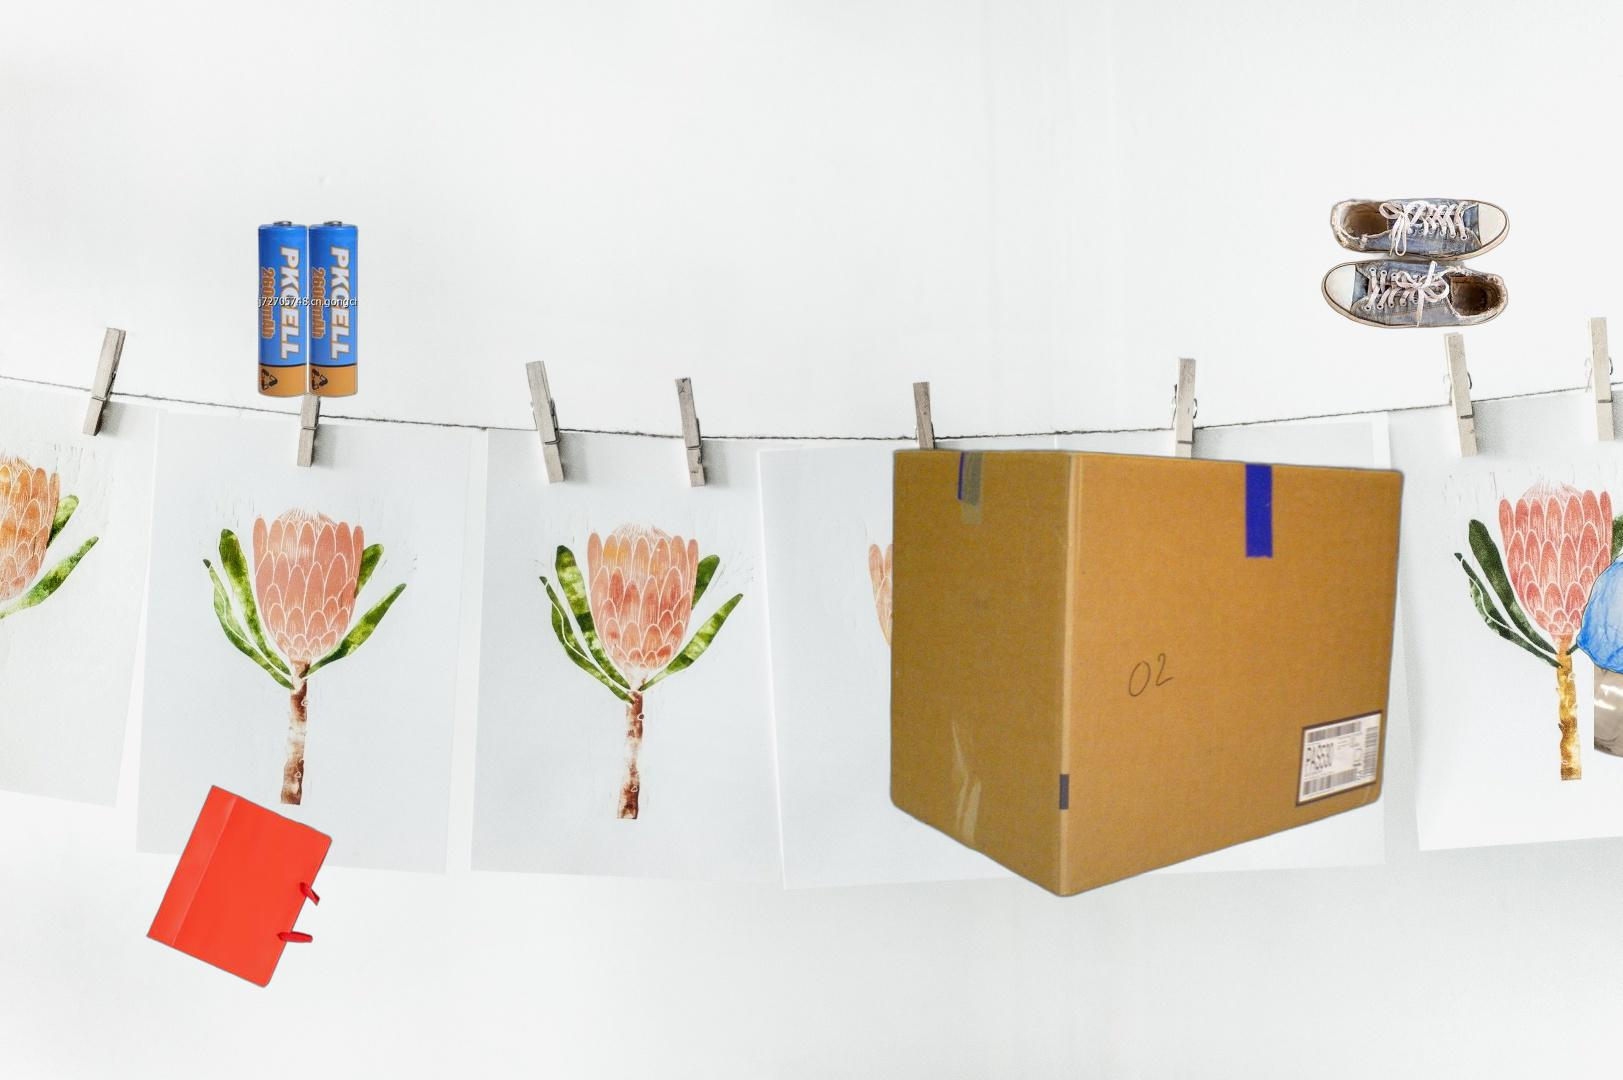battery: (255, 218, 361, 400)
glass: (1594, 634, 1623, 794)
paper-bag: (145, 783, 335, 990)
plastic-bag: (1575, 523, 1623, 704)
shoes: (1319, 195, 1512, 331)
trashbox-cardboard: (886, 444, 1409, 902)
